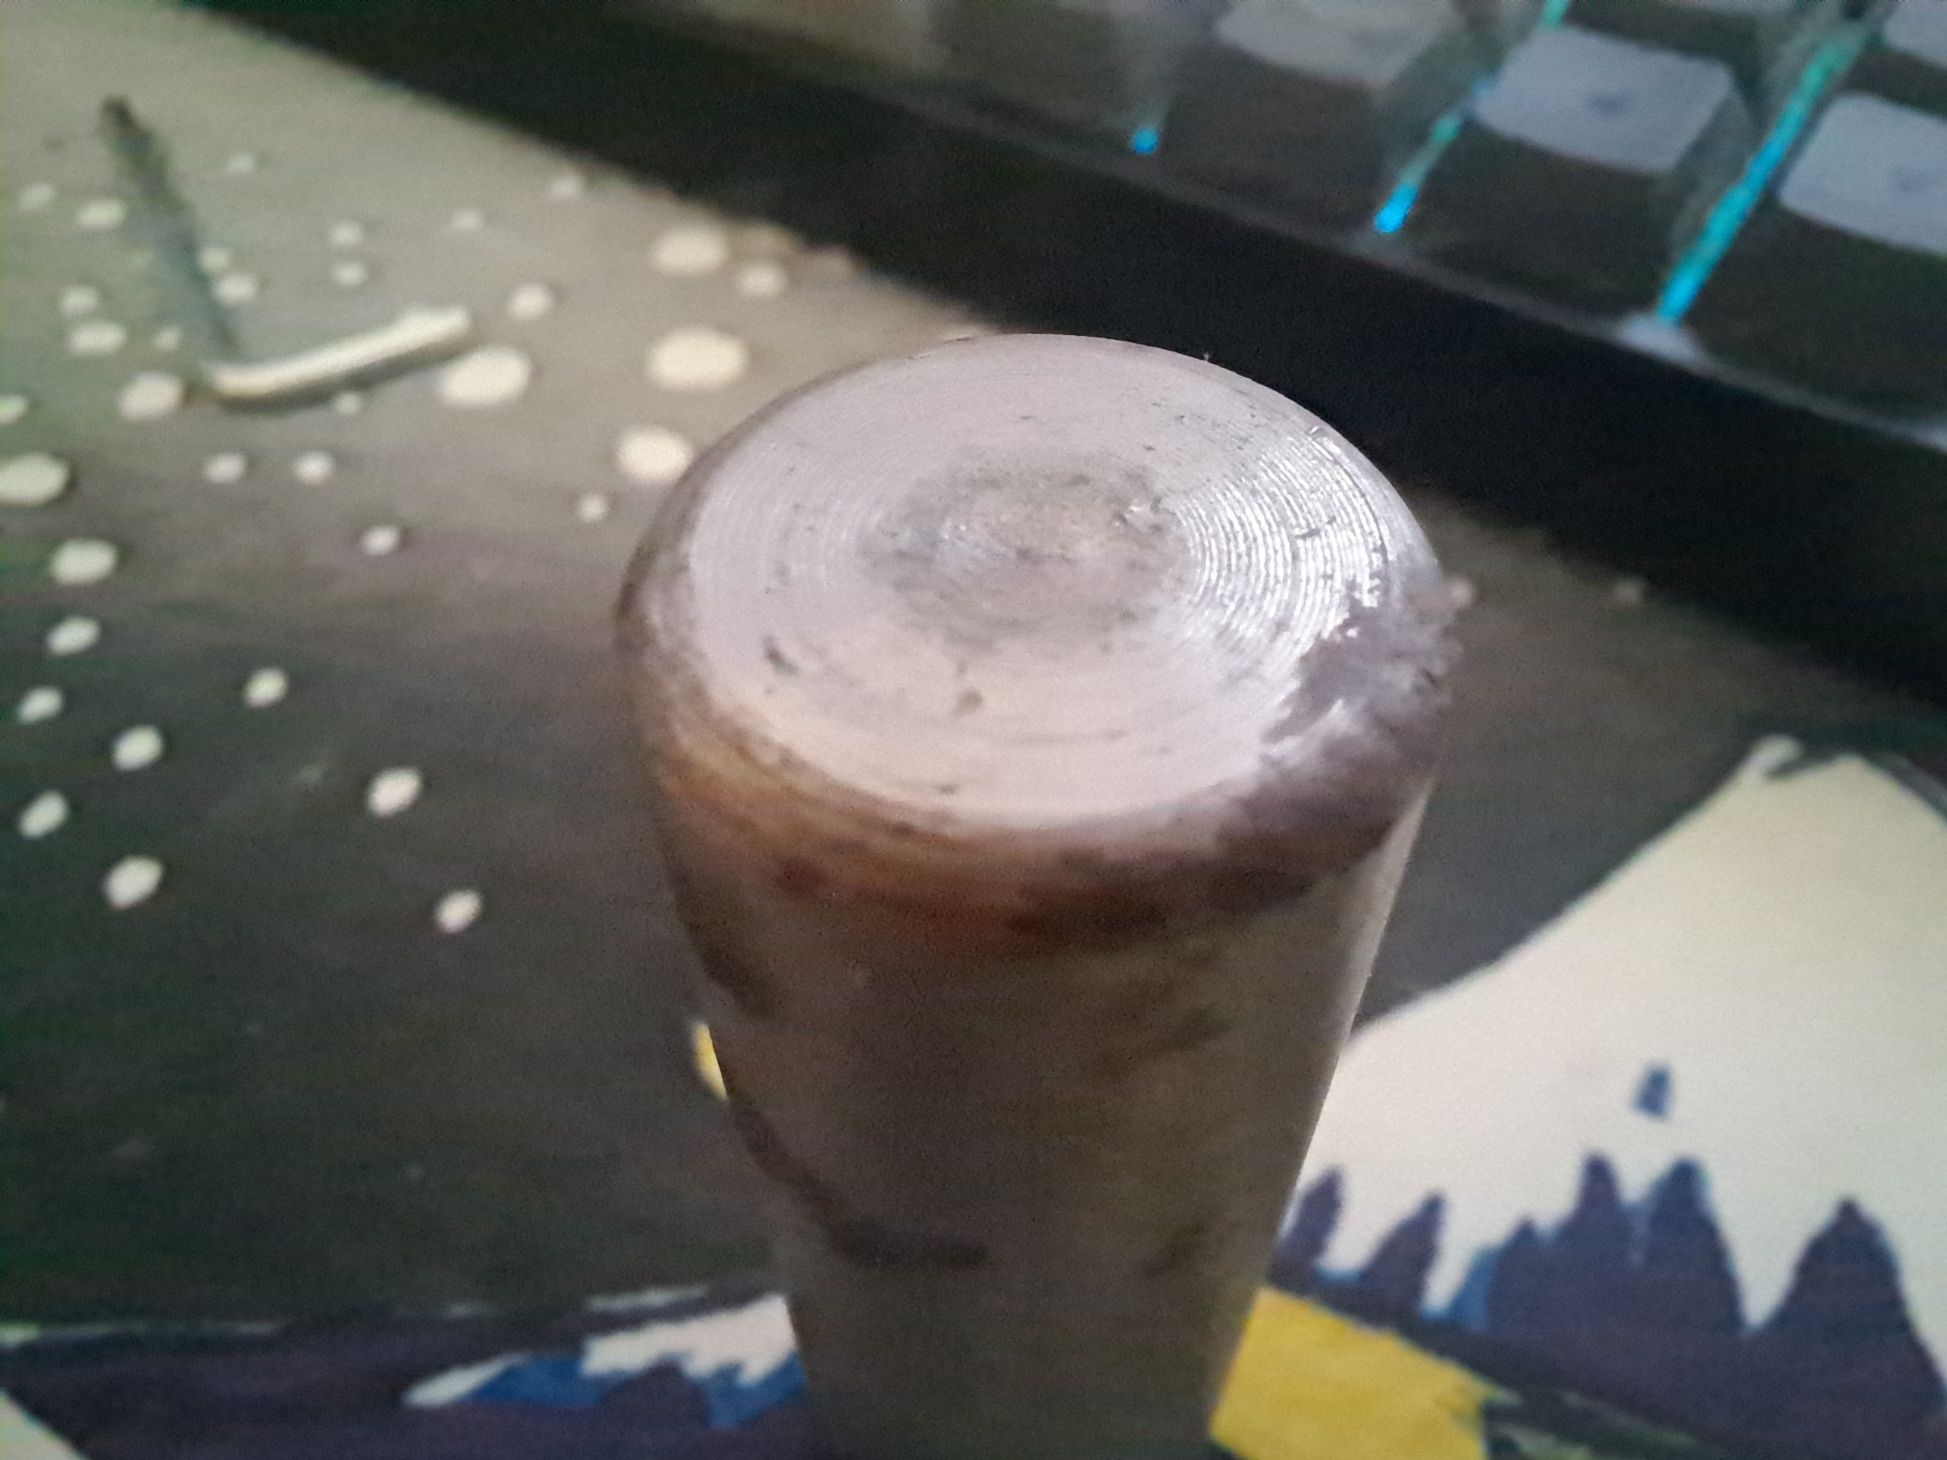плансон: (615, 331, 1453, 1460)
